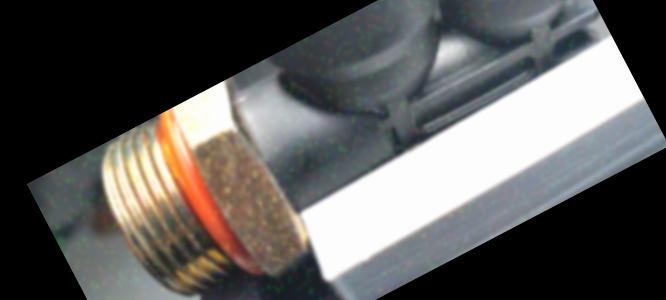joint line: (256, 78, 282, 98)
white mark: (225, 87, 255, 111)
